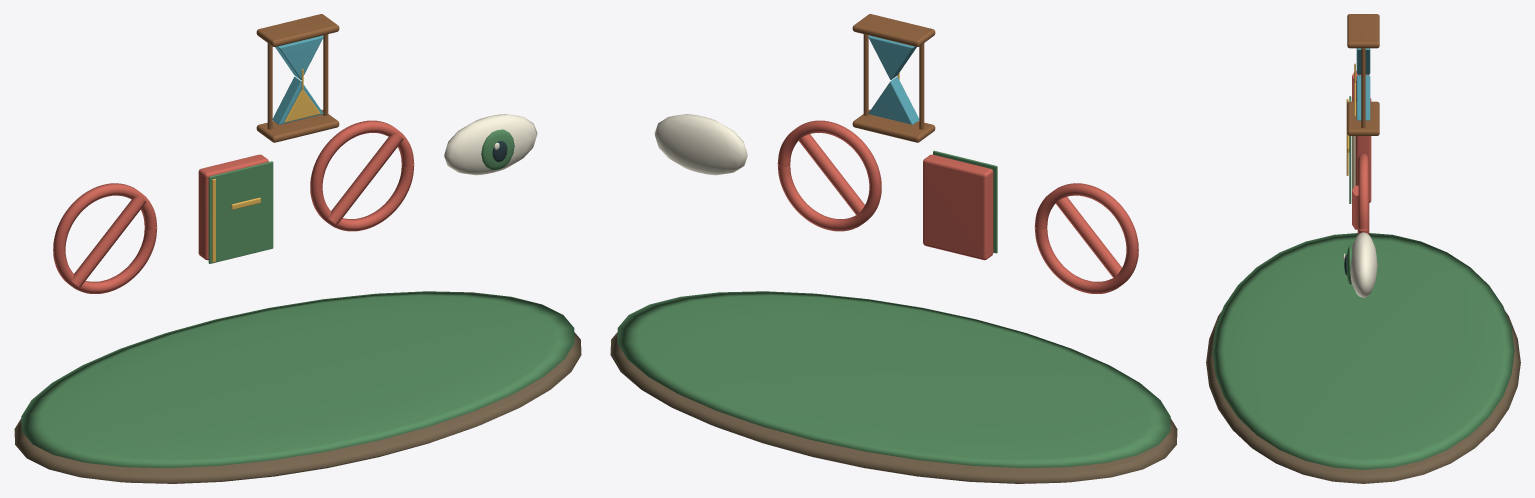
The model's file is complete-first-unnoticed-passage.glb.
The picture shows the model from 3 angles, left to right: view 1: azimuth 30°, elevation 25°; view 2: azimuth 150°, elevation 25°; view 3: azimuth 270°, elevation 25°; orthographic projection. The views are drawn at different scales.
Visible parts, largest first — view 1: complete-first-unnoticed-passage_surface_01, complete-first-unnoticed-passage_surface_02, complete-first-unnoticed-passage_surface_00, complete-first-unnoticed-passage_surface_07, complete-first-unnoticed-passage_surface_05, complete-first-unnoticed-passage_surface_08, complete-first-unnoticed-passage_surface_04; view 2: complete-first-unnoticed-passage_surface_01, complete-first-unnoticed-passage_surface_02, complete-first-unnoticed-passage_surface_00, complete-first-unnoticed-passage_surface_05, complete-first-unnoticed-passage_surface_07, complete-first-unnoticed-passage_surface_08; view 3: complete-first-unnoticed-passage_surface_01, complete-first-unnoticed-passage_surface_00, complete-first-unnoticed-passage_surface_07, complete-first-unnoticed-passage_surface_02, complete-first-unnoticed-passage_surface_05, complete-first-unnoticed-passage_surface_08.
Part boxes in pixels (box(x1,y1,x2,y2)): complete-first-unnoticed-passage_surface_01: box(21, 129, 574, 468); complete-first-unnoticed-passage_surface_02: box(53, 120, 414, 293); complete-first-unnoticed-passage_surface_00: box(14, 332, 581, 483); complete-first-unnoticed-passage_surface_07: box(256, 14, 339, 142); complete-first-unnoticed-passage_surface_05: box(444, 114, 537, 175); complete-first-unnoticed-passage_surface_08: box(272, 35, 323, 124); complete-first-unnoticed-passage_surface_04: box(212, 69, 320, 262); complete-first-unnoticed-passage_surface_01: box(617, 150, 1170, 468); complete-first-unnoticed-passage_surface_02: box(777, 120, 1138, 293); complete-first-unnoticed-passage_surface_00: box(610, 332, 1177, 483); complete-first-unnoticed-passage_surface_05: box(654, 114, 747, 175); complete-first-unnoticed-passage_surface_07: box(852, 14, 935, 142); complete-first-unnoticed-passage_surface_08: box(868, 35, 919, 124); complete-first-unnoticed-passage_surface_01: box(1212, 96, 1514, 469); complete-first-unnoticed-passage_surface_00: box(1206, 311, 1520, 483); complete-first-unnoticed-passage_surface_07: box(1347, 14, 1379, 135); complete-first-unnoticed-passage_surface_02: box(1352, 70, 1371, 234); complete-first-unnoticed-passage_surface_05: box(1343, 232, 1377, 297); complete-first-unnoticed-passage_surface_08: box(1356, 48, 1370, 120).
Size of the model in its own units: 4.56 by 3.06 by 2.5.
